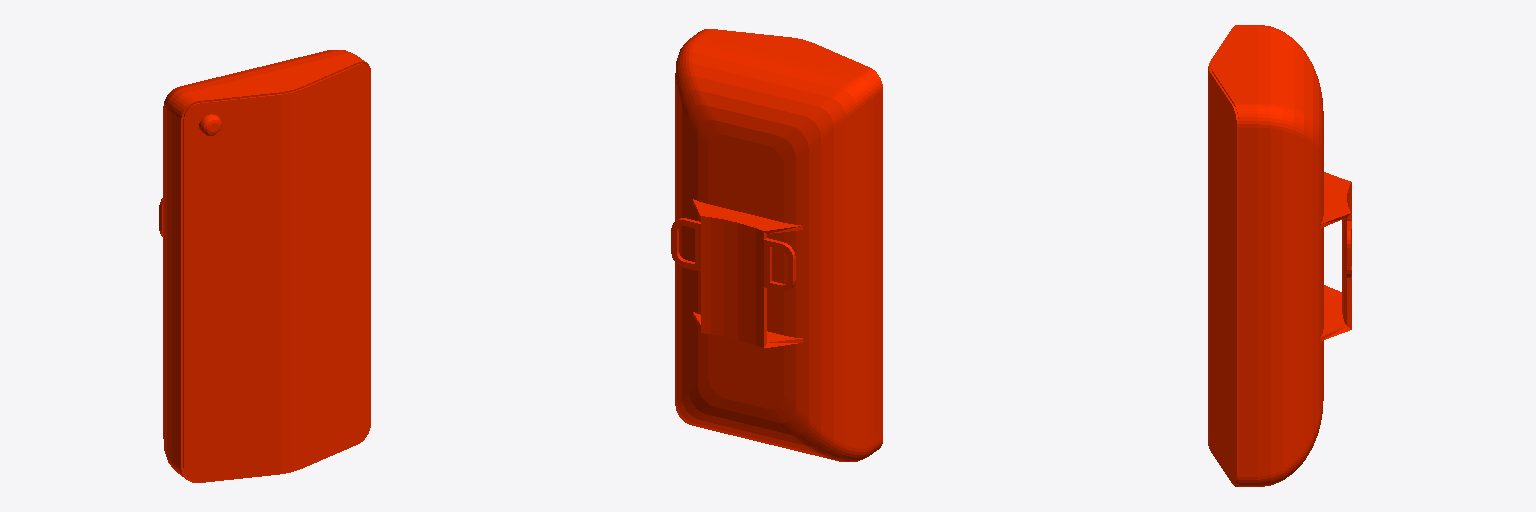
File: Sensore_Colored.obj
The picture shows the model from 3 angles: view 1: azimuth 30°, elevation 25°; view 2: azimuth 150°, elevation 25°; view 3: azimuth 270°, elevation 25°; orthographic projection.
Parts seen in each view (by area): view 1: Plane; view 2: Plane; view 3: Plane.
Boxes of the visible parts, box(x1,y1,x2,y2) form: Plane: box(159, 50, 370, 482); Plane: box(671, 29, 882, 461); Plane: box(1208, 25, 1351, 486).
Size of the model in its own units: 0.1396 by 0.2684 by 0.0912.